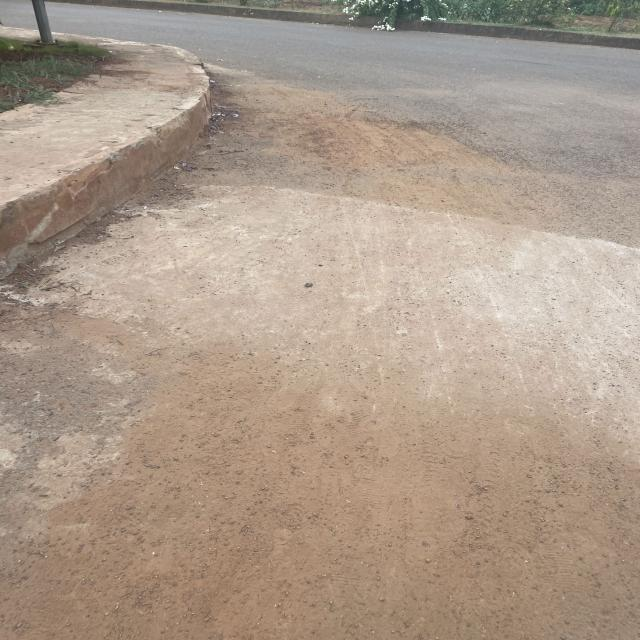D43: (174, 157, 605, 290)
